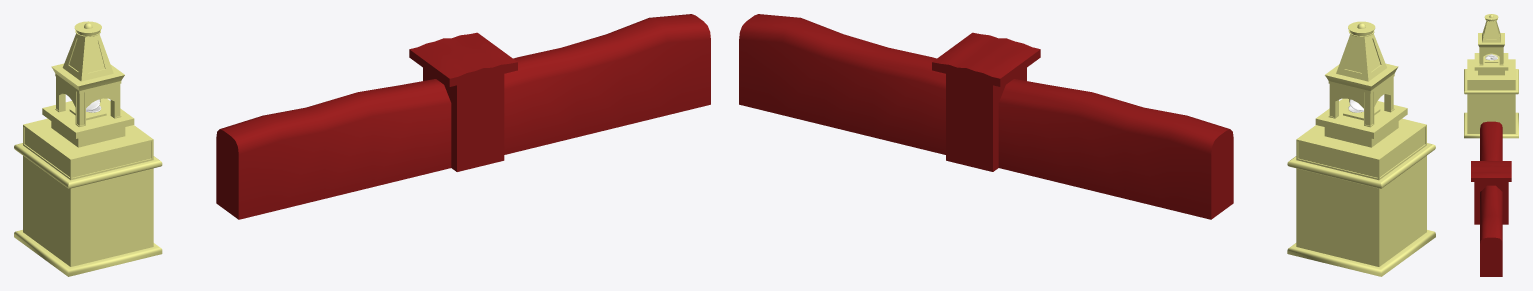
Rendered from Fantasy wall with tower.FBX.
3 renders of one model, left to right at view 1: azimuth 30°, elevation 25°; view 2: azimuth 150°, elevation 25°; view 3: azimuth 270°, elevation 25°, orthographic. The views are drawn at different scales.
Visible parts, largest first — view 1: Box001, Wall tower; view 2: Box001, Wall tower; view 3: Wall tower, Box001, Seashell.
Boxes of the visible parts, x1,y1,x2,y2 form: Box001: (216, 14, 710, 219); Wall tower: (14, 21, 162, 276); Box001: (739, 14, 1233, 219); Wall tower: (1287, 21, 1435, 276); Wall tower: (1464, 14, 1518, 138); Box001: (1471, 121, 1511, 276); Seashell: (1485, 54, 1497, 60).
Bounding box in the file's own units: 10493 × 3384 × 1500.
